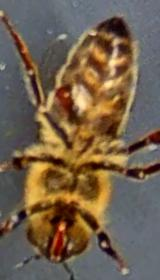varroa_mite: (43, 74, 87, 116)
